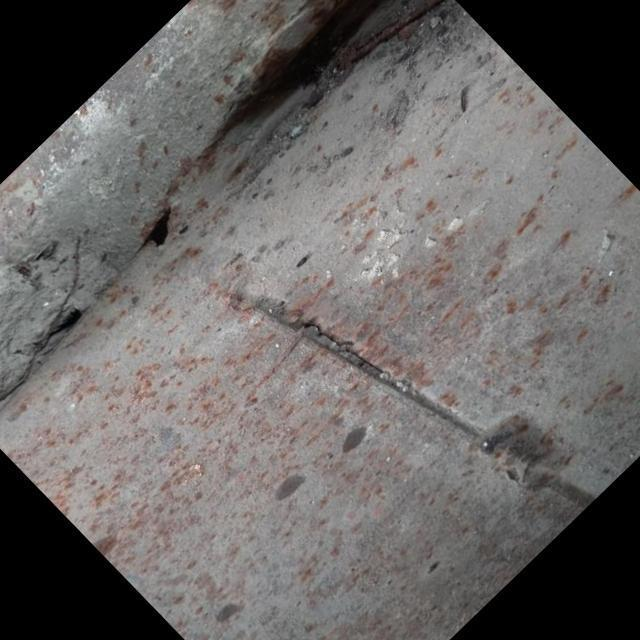defect: (294, 318, 395, 385)
